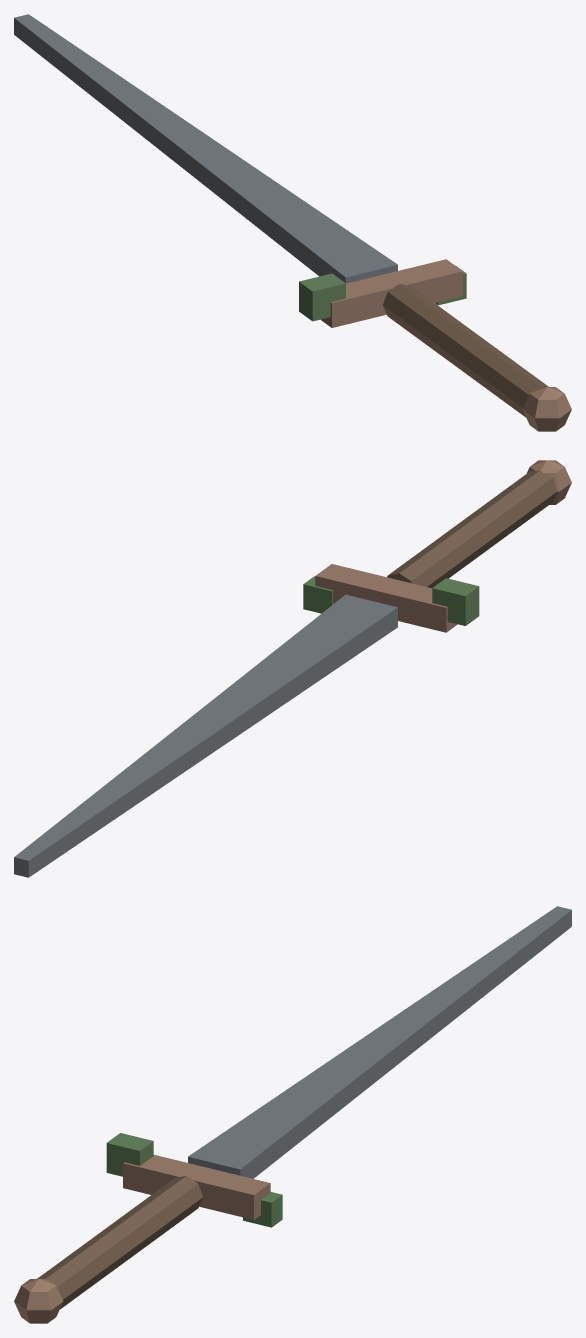
Rendered from DF_MossRust.fbx.
3 views of the same model, one above another, from view 1: azimuth 30°, elevation 25°; view 2: azimuth 150°, elevation 25°; view 3: azimuth 330°, elevation 25° (orthographic).
Visible parts, largest first — view 1: DF_MossRust; view 2: DF_MossRust; view 3: DF_MossRust.
Boxes of the visible parts, <box> form: DF_MossRust: <box>14,14,571,431</box>; DF_MossRust: <box>14,460,571,877</box>; DF_MossRust: <box>14,906,571,1323</box>.
Bounding box in the file's own units: 0.67 × 0.2 × 3.91.
